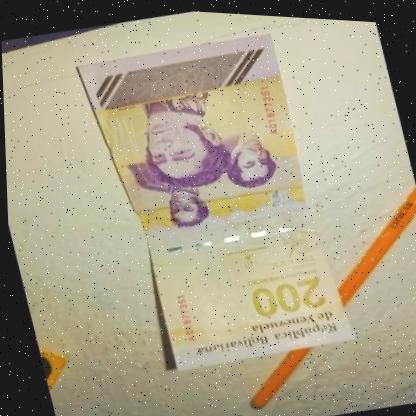two_hundred-front-vef: (73, 17, 355, 382)
